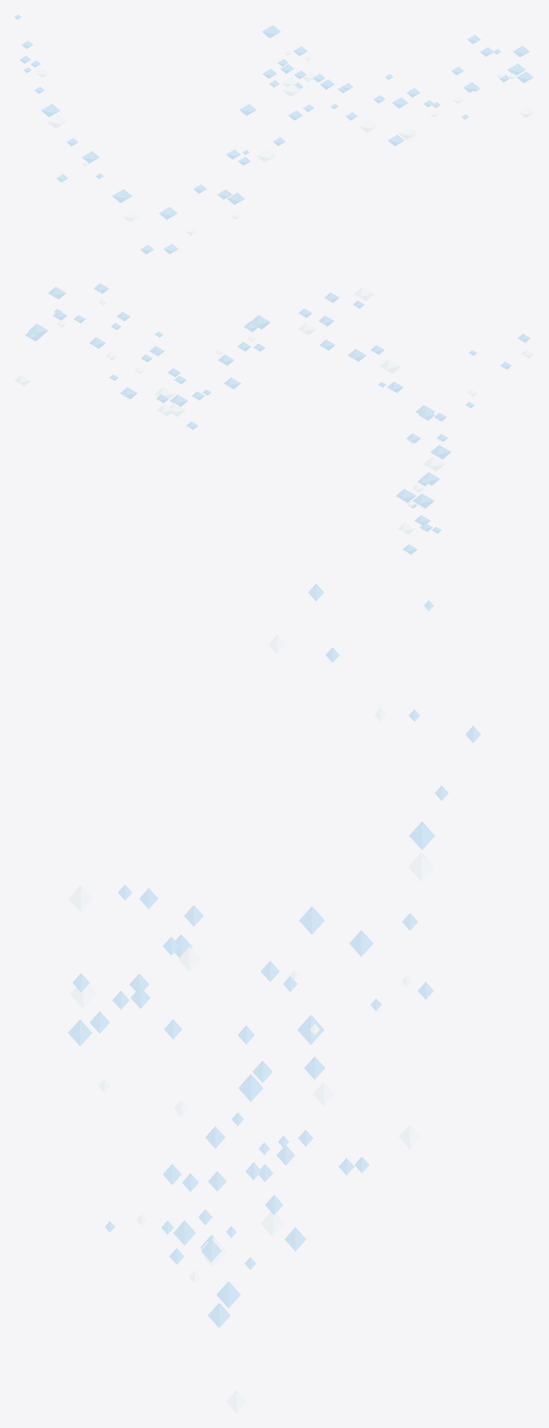
File: Held_Trail.glb
3 renders of one model, top to bottom at view 1: azimuth 30°, elevation 25°; view 2: azimuth 150°, elevation 25°; view 3: azimuth 270°, elevation 25°, orthographic. The views are drawn at different scales.
Parts seen in each view (by area): view 1: Held_Trail; view 2: Held_Trail; view 3: Held_Trail.
Part boxes in pixels (x1,y1,x2,y2): Held_Trail: (14,14,534,254); Held_Trail: (14,283,534,554); Held_Trail: (68,583,480,1413).
Bounding box in the file's own units: 0.0832 × 0.0381 × 0.0302.
